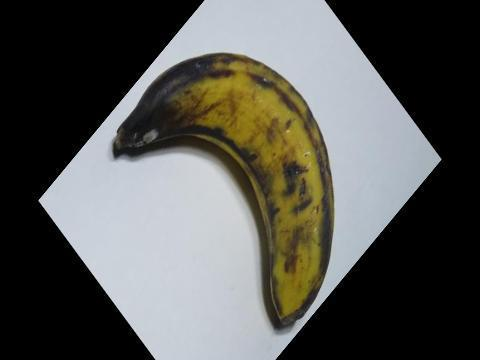overripe: (90, 35, 340, 329)
rotten: (114, 43, 236, 162)
